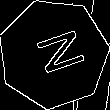N_W: (23, 26, 84, 81)
